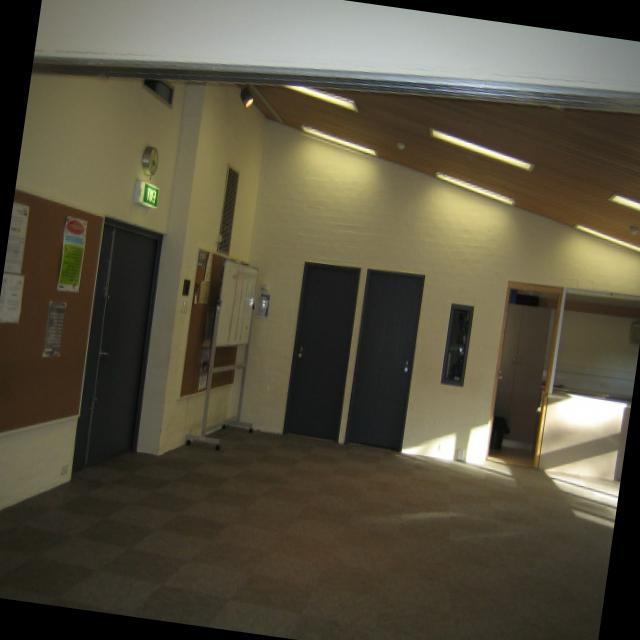2001: (553, 285, 640, 403)
board occluded: (0, 188, 105, 432), (182, 248, 249, 395)
ceiling beam: (240, 83, 640, 253)
clock crop: (142, 142, 162, 174)
door bars: (74, 218, 164, 469), (347, 268, 427, 449), (487, 281, 563, 469), (285, 261, 362, 437)
floor -X: (0, 419, 617, 640)
lamp crop: (432, 127, 535, 171), (436, 168, 515, 204), (306, 124, 378, 156), (302, 87, 357, 112), (612, 191, 640, 209)
sign: (136, 179, 163, 209)
wall clock: (238, 125, 640, 506), (0, 70, 270, 513), (34, 0, 640, 113)
